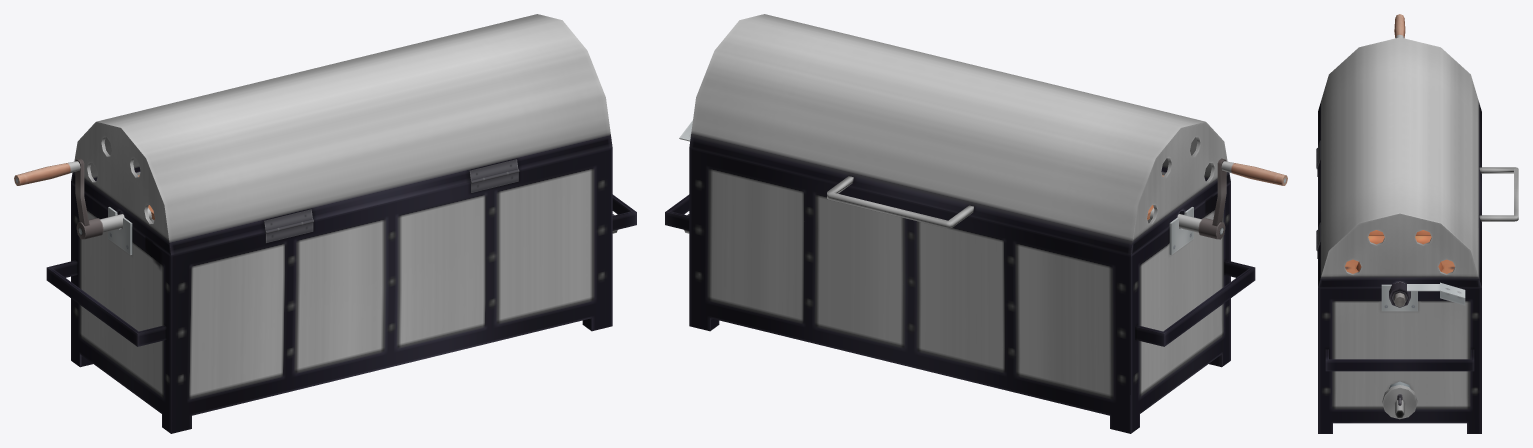
The model's file is jsf_CastellaMachine.fbx.
3 views of the same model, side by side, from view 1: azimuth 30°, elevation 25°; view 2: azimuth 150°, elevation 25°; view 3: azimuth 270°, elevation 25° (orthographic). The views are drawn at different scales.
Parts seen in each view (by area): view 1: Body, Lid, Iron_Plate_01; view 2: Body, Lid, Iron_Plate_01; view 3: Lid, Body, Iron_Plate_02, Iron_Plate_01.
Boxes of the visible parts, bbox=[...] form: Body: bbox=[46, 147, 636, 433]; Lid: bbox=[71, 14, 612, 255]; Iron_Plate_01: bbox=[14, 158, 154, 239]; Body: bbox=[665, 120, 1255, 433]; Lid: bbox=[689, 14, 1230, 255]; Iron_Plate_01: bbox=[1147, 158, 1287, 239]; Lid: bbox=[1316, 37, 1518, 287]; Body: bbox=[1317, 169, 1481, 433]; Iron_Plate_02: bbox=[1344, 230, 1454, 273]; Iron_Plate_01: bbox=[1389, 14, 1410, 307].
Size of the model in its own units: 96.48 by 41.52 by 34.52.
